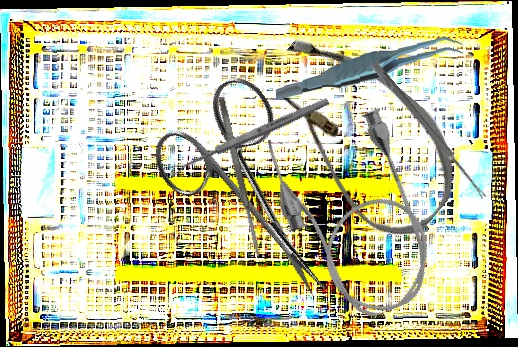Cannula: (234, 16, 484, 254), (254, 96, 453, 335)
Iris Scissors: (138, 68, 376, 330)
Spatula Surgical: (216, 96, 263, 259)
Surgical Spoon: (369, 60, 489, 201), (168, 95, 331, 177)
Tissue Forceps: (273, 35, 466, 101)
